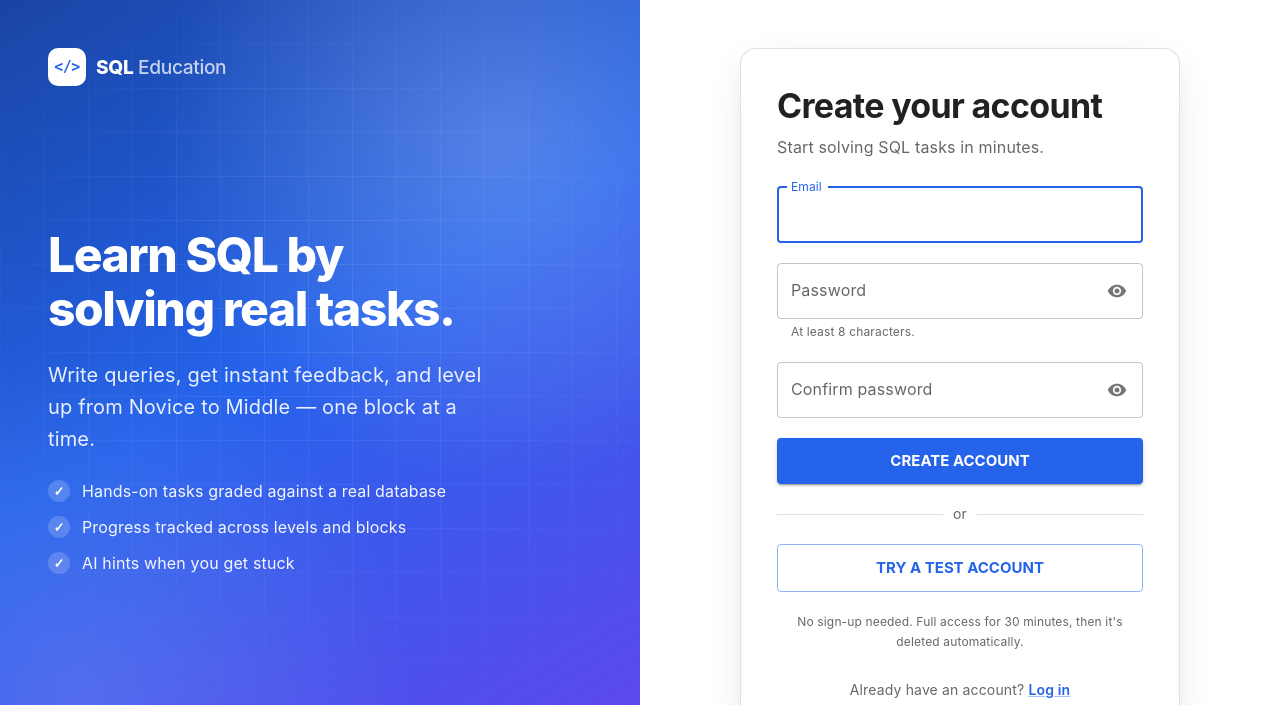
Test: RegisterPage › blocks submit and shows a mismatch error when passwords differ
In the field labelled "Email": (960, 215) [777,187,1143,243], type "ada@example.com"
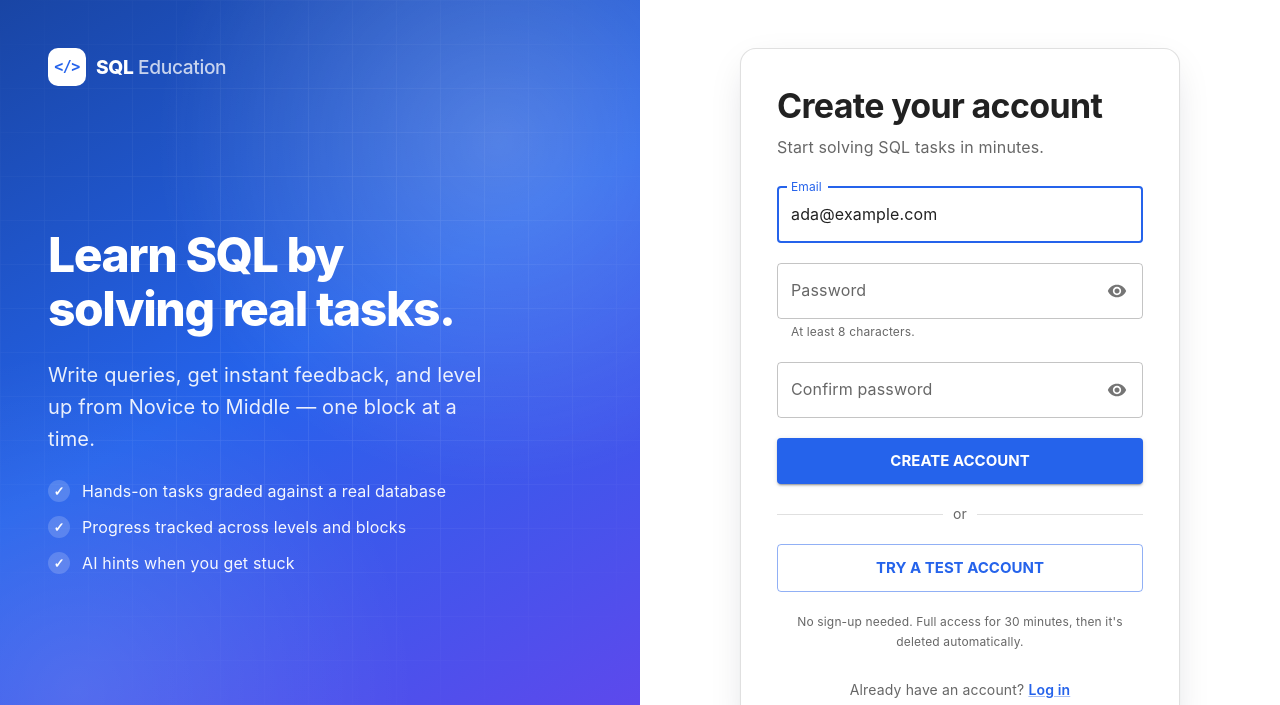
In the password field labelled "Password": (936, 291) [777,263,1094,319], type "password123"
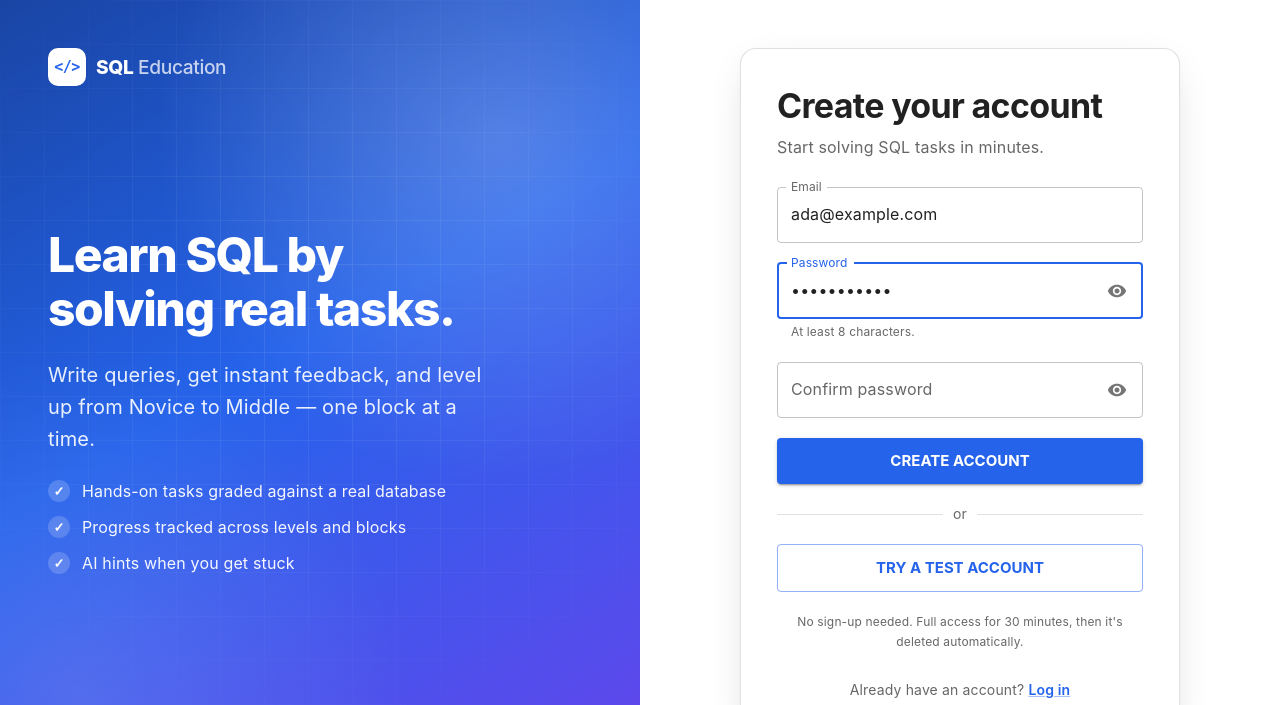
In the password field labelled "Confirm password": (936, 390) [777,362,1094,418], type "different456"
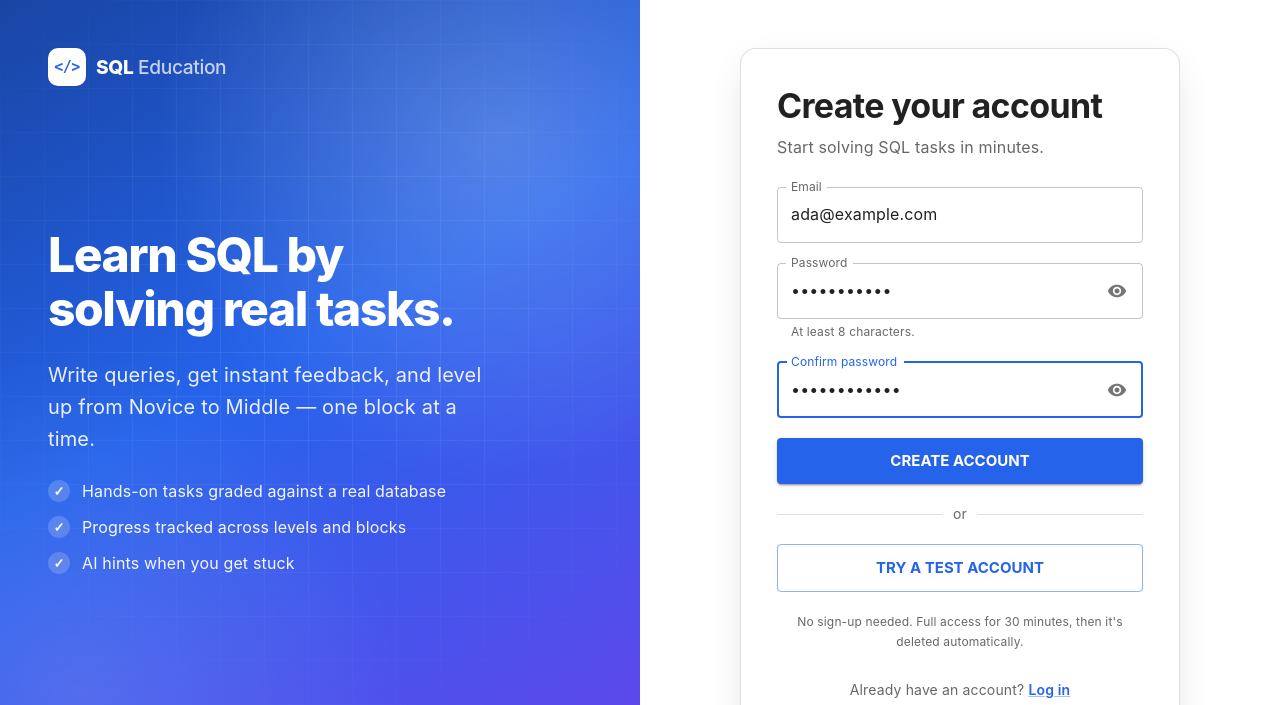
Click the button "Create account": click(960, 461) [777,438,1143,484]
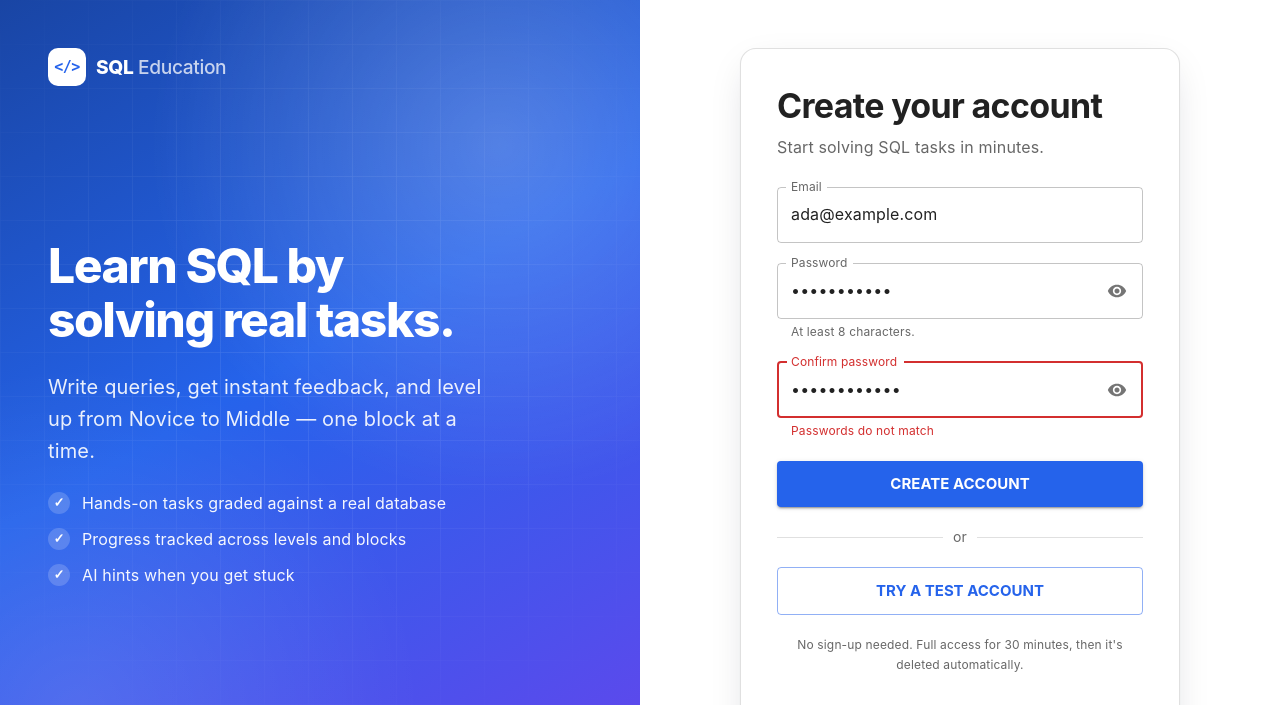
Expected: the text "Passwords do not match" is shown, [791,423,934,438]
